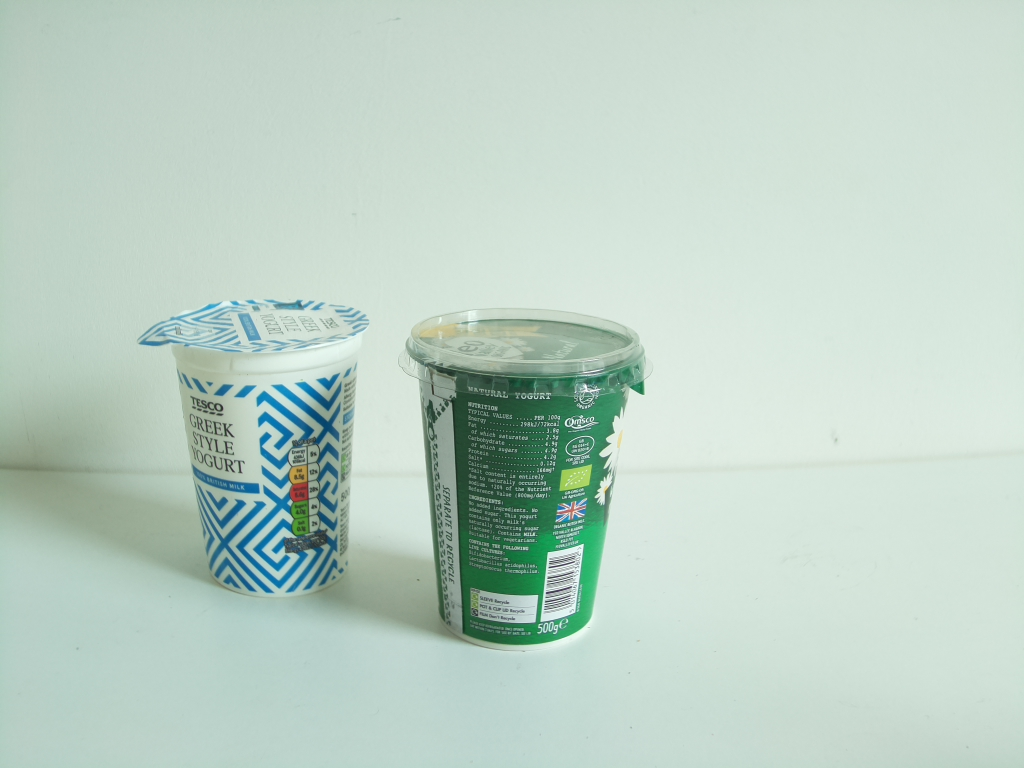yogurt: (396, 305, 654, 654), (131, 289, 377, 601)
